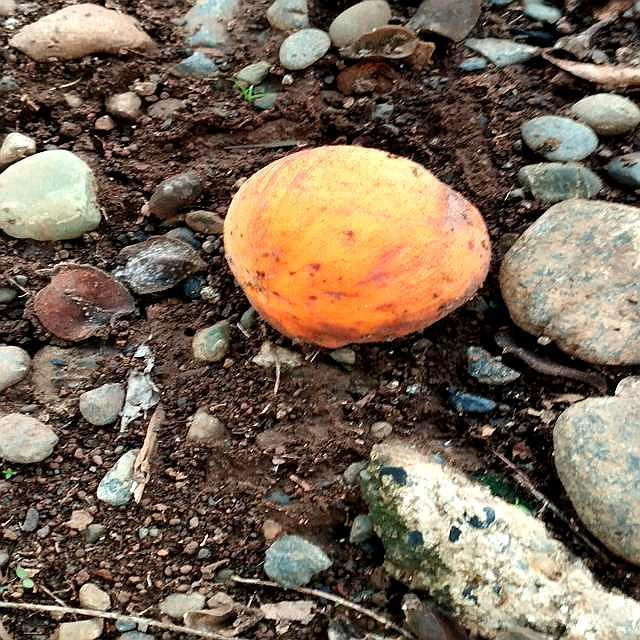Biodegradable: (223, 147, 493, 351)
